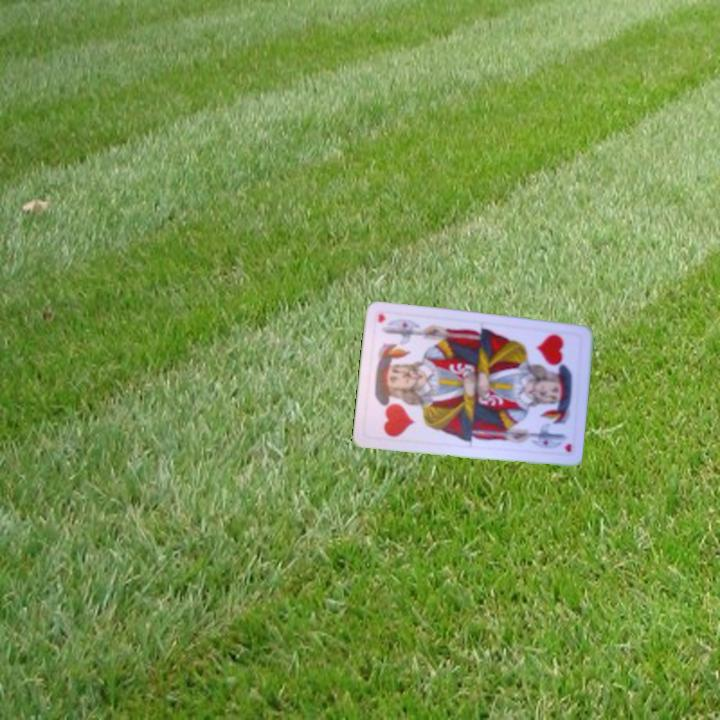h_j.png: (521, 326, 585, 398), (362, 371, 426, 443)
